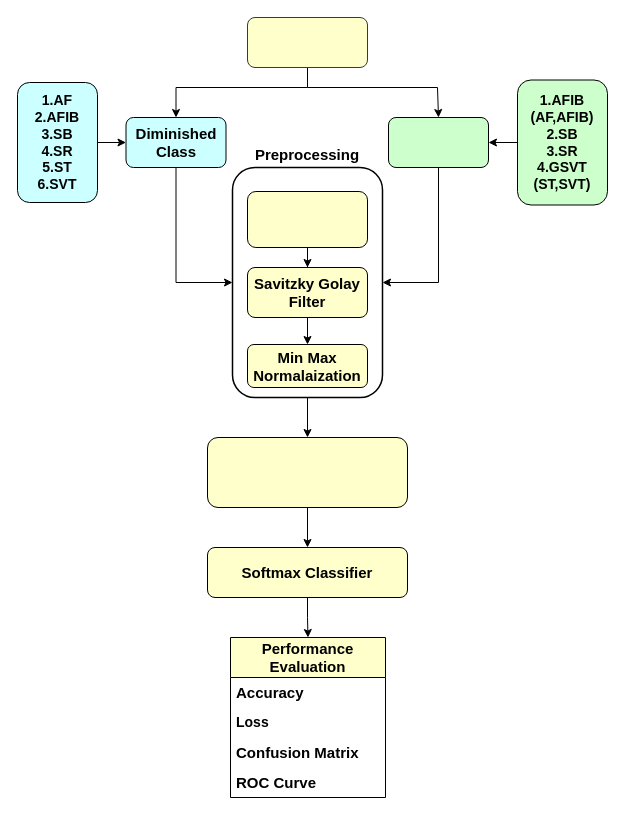
Some shapes in this 625 by 815 pixel diagram are drawn without their labels. The shapes that lost their labels are listed below. From the top down, each one's centre as x and y in pixels, then its label:
point 307,42: Chapman Dataset
point 438,142: Combined Class
point 307,219: Butterworth Bandpass filter
point 307,472: Model Development 1D CNN - 22 layers (Feature Extraction)
